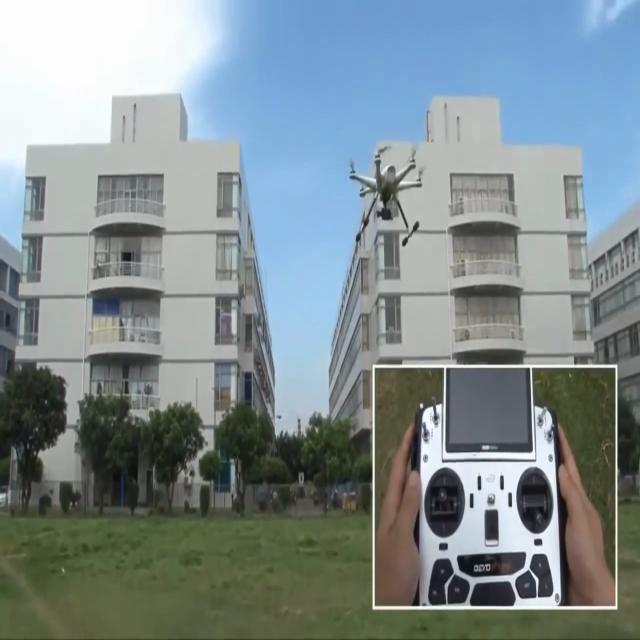drone: (348, 144, 423, 246)
